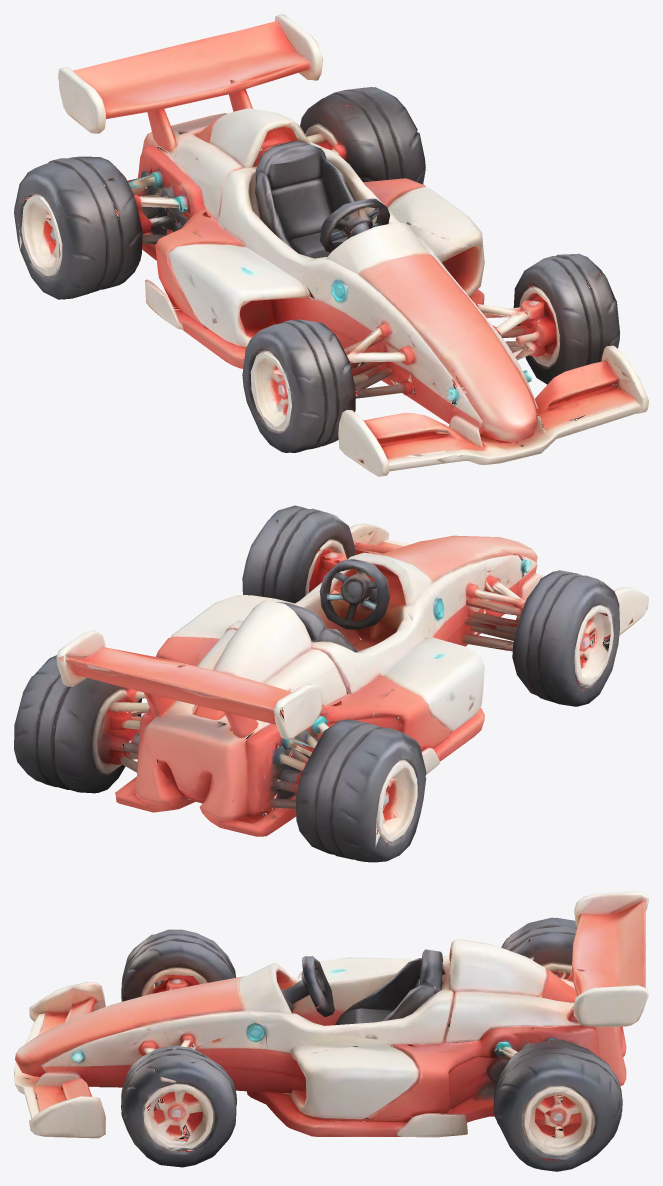
The model's file is comet-mobile.glb.
The picture shows the model from 3 angles, top to bottom: view 1: azimuth 30°, elevation 25°; view 2: azimuth 150°, elevation 25°; view 3: azimuth 270°, elevation 25°; orthographic projection. The views are drawn at different scales.
Parts seen in each view (by area): view 1: model; view 2: model; view 3: model.
Part boxes in pixels (x1,y1,x2,y2): model: (14,14,648,476); model: (14,505,648,862); model: (14,891,648,1171).
Bounding box in the file's own units: 1.11 × 0.534 × 1.9.
Materials: 1 (1 with a texture image).
